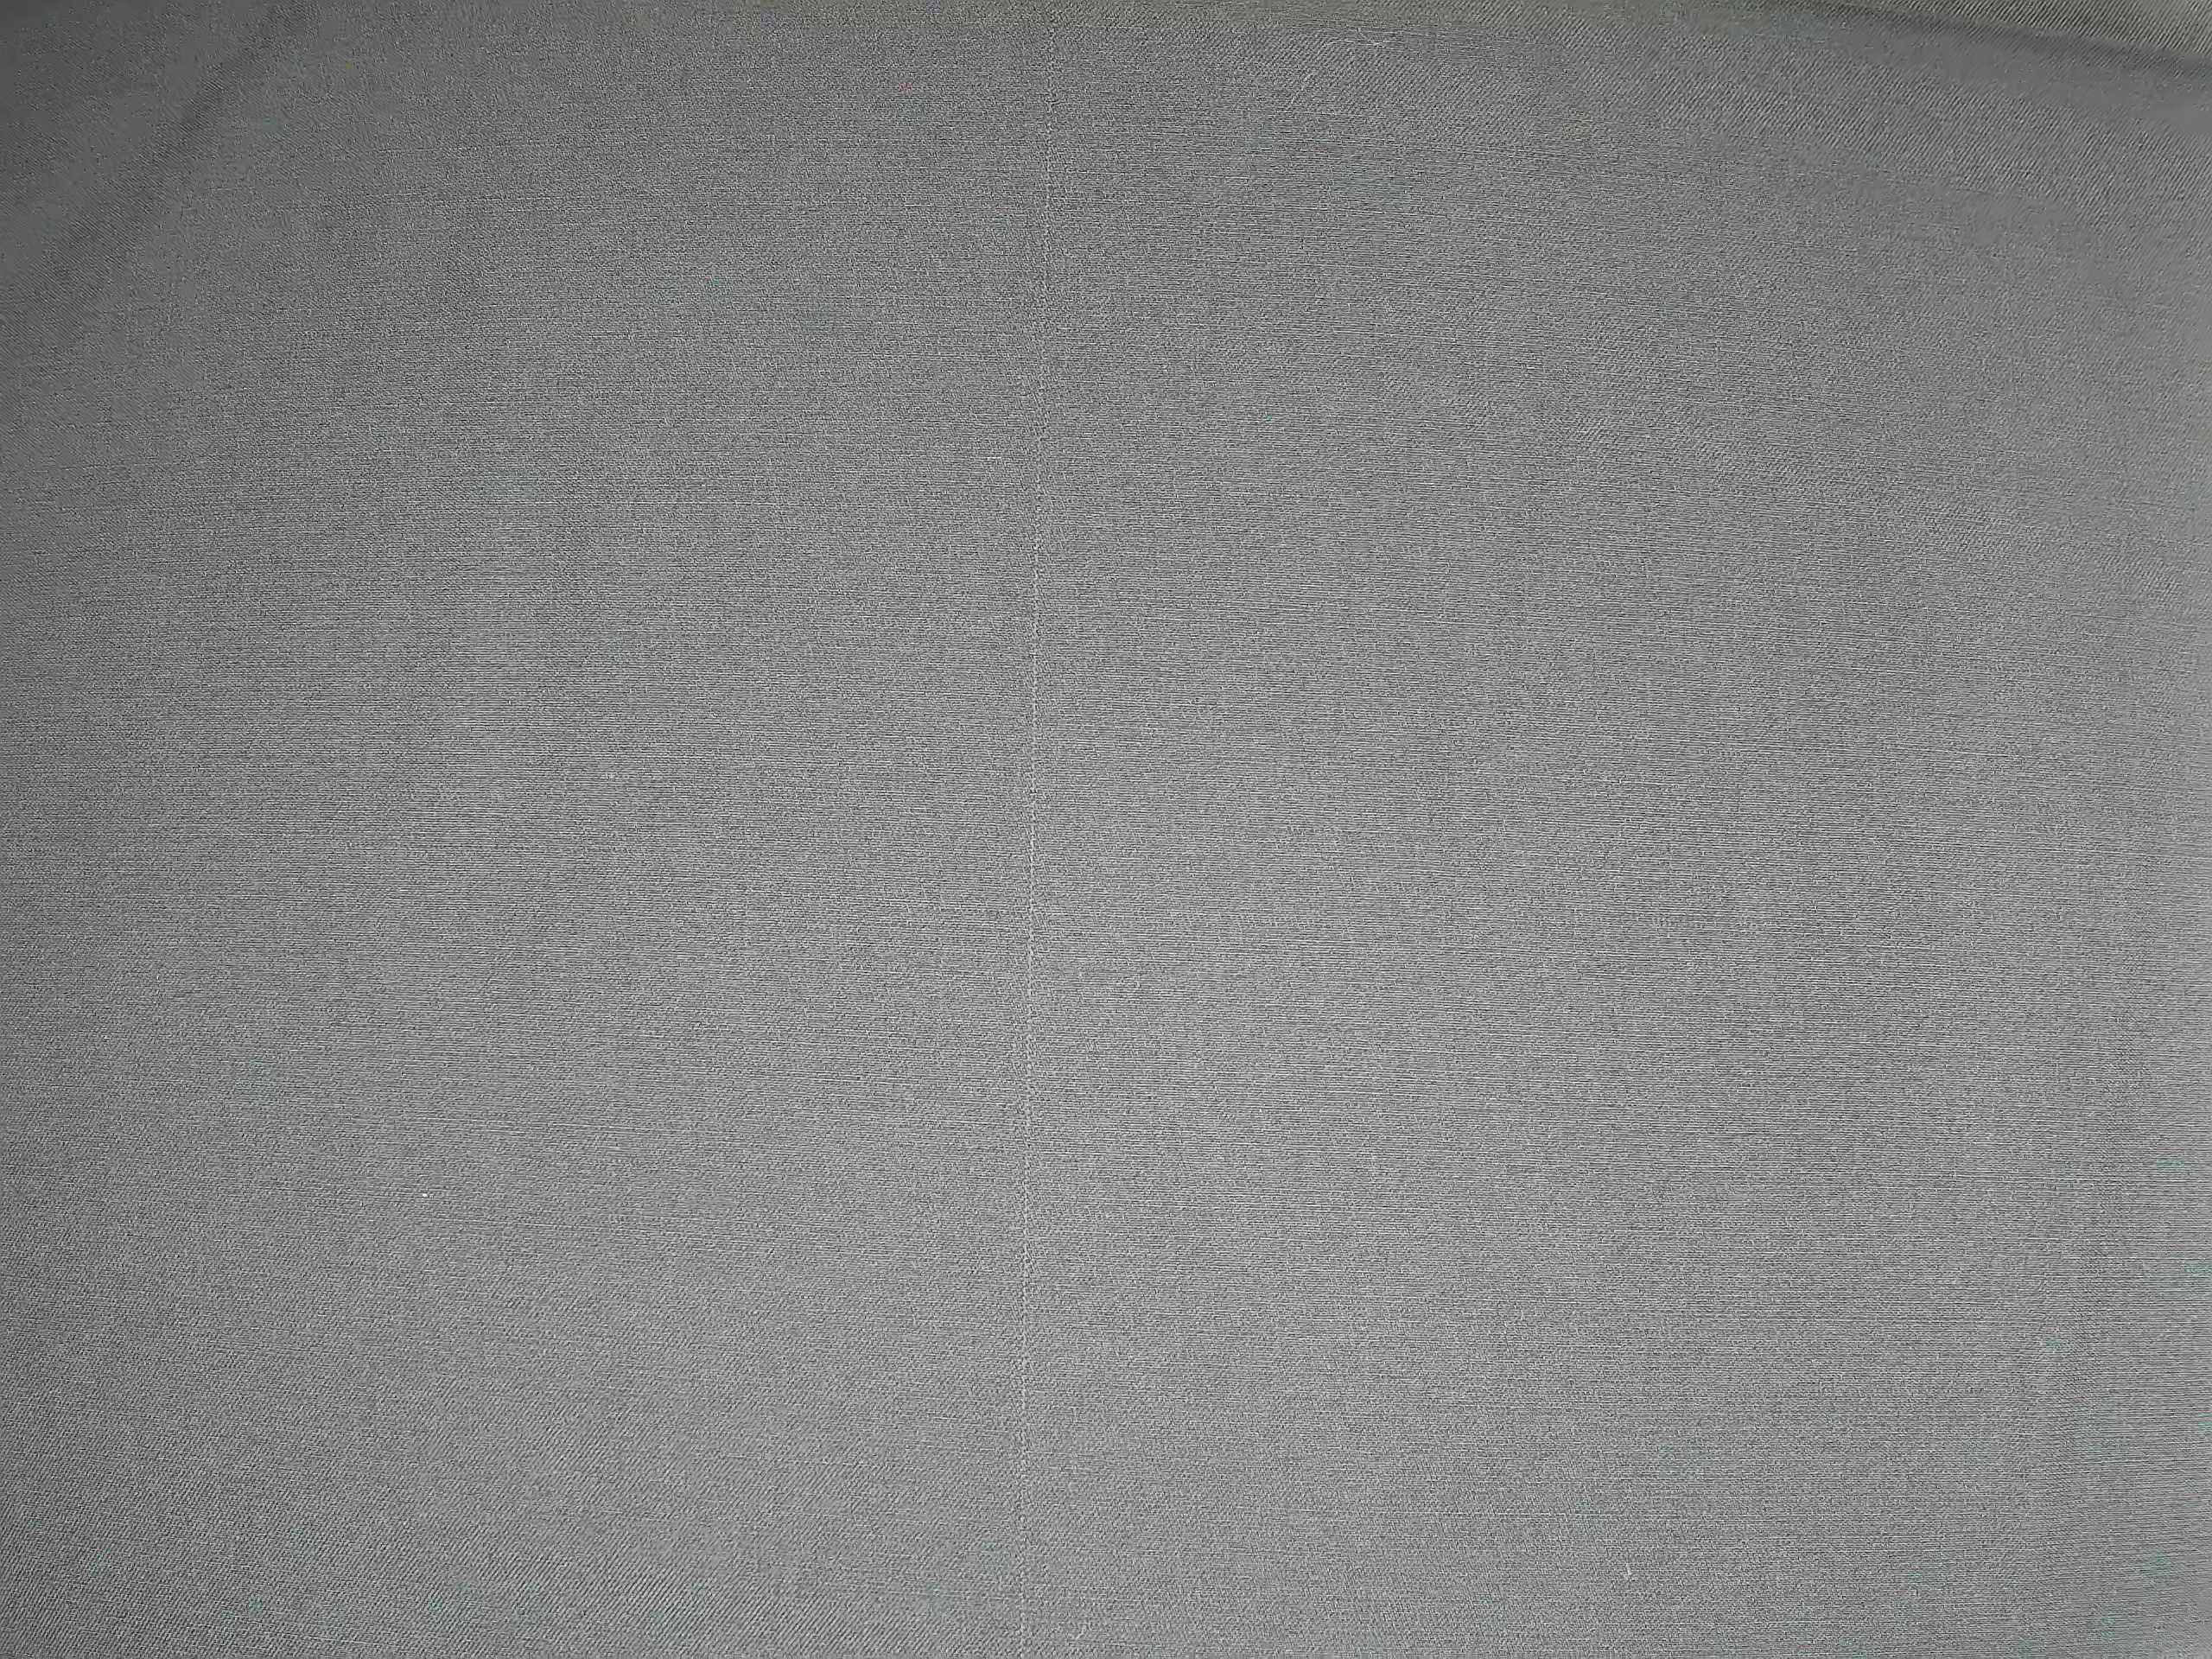lacking-warp: (1012, 7, 1068, 1650)
